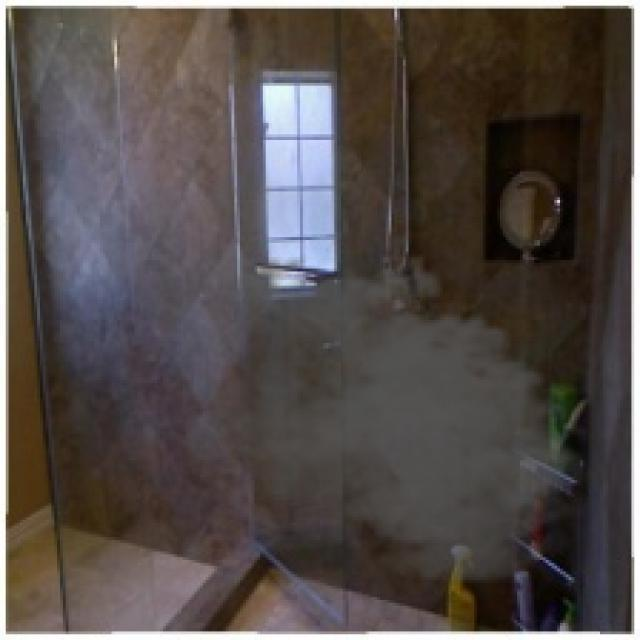Smoke: (185, 246, 606, 592)
